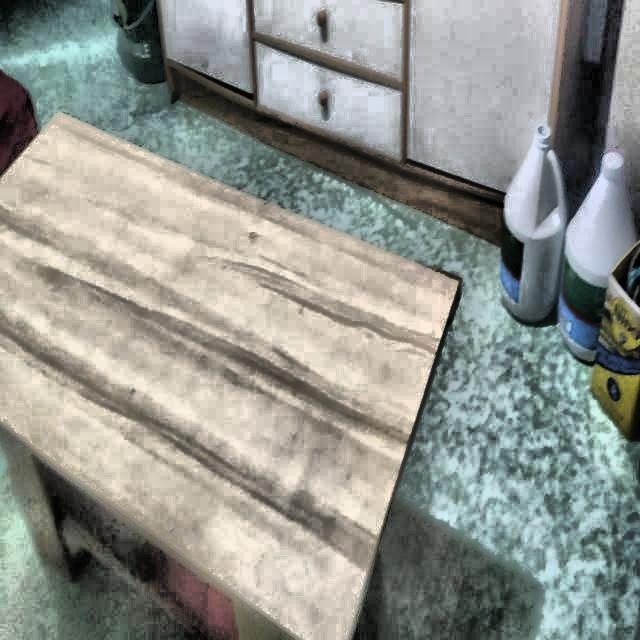mesa: (0, 108, 454, 639)
